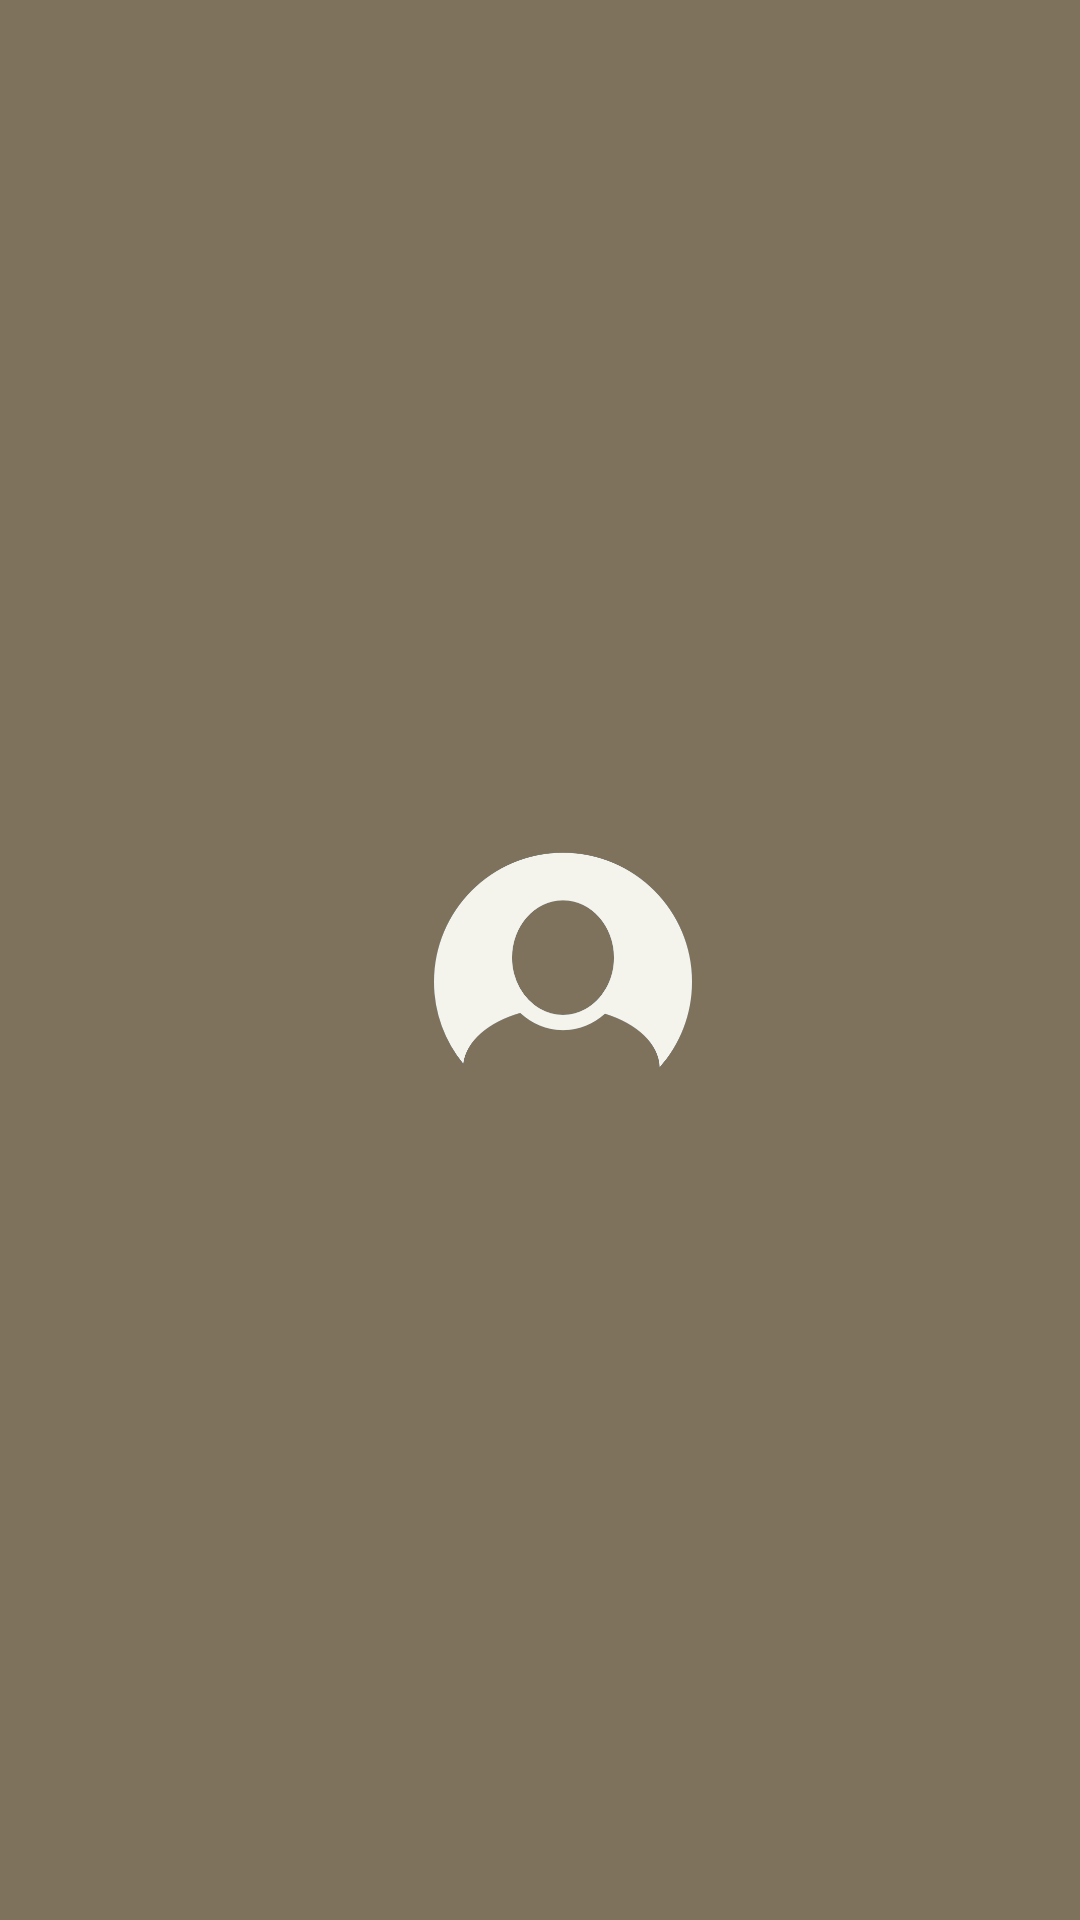

Icons on this 1080px×1920px Android screen, each with the point to tap as [x,y]:
user: [563,960]
